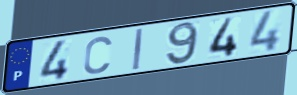4: (247, 9, 282, 54), (38, 37, 71, 82), (207, 15, 240, 59)
9: (164, 21, 201, 66)
C: (81, 34, 114, 76)
I: (131, 27, 145, 72)
